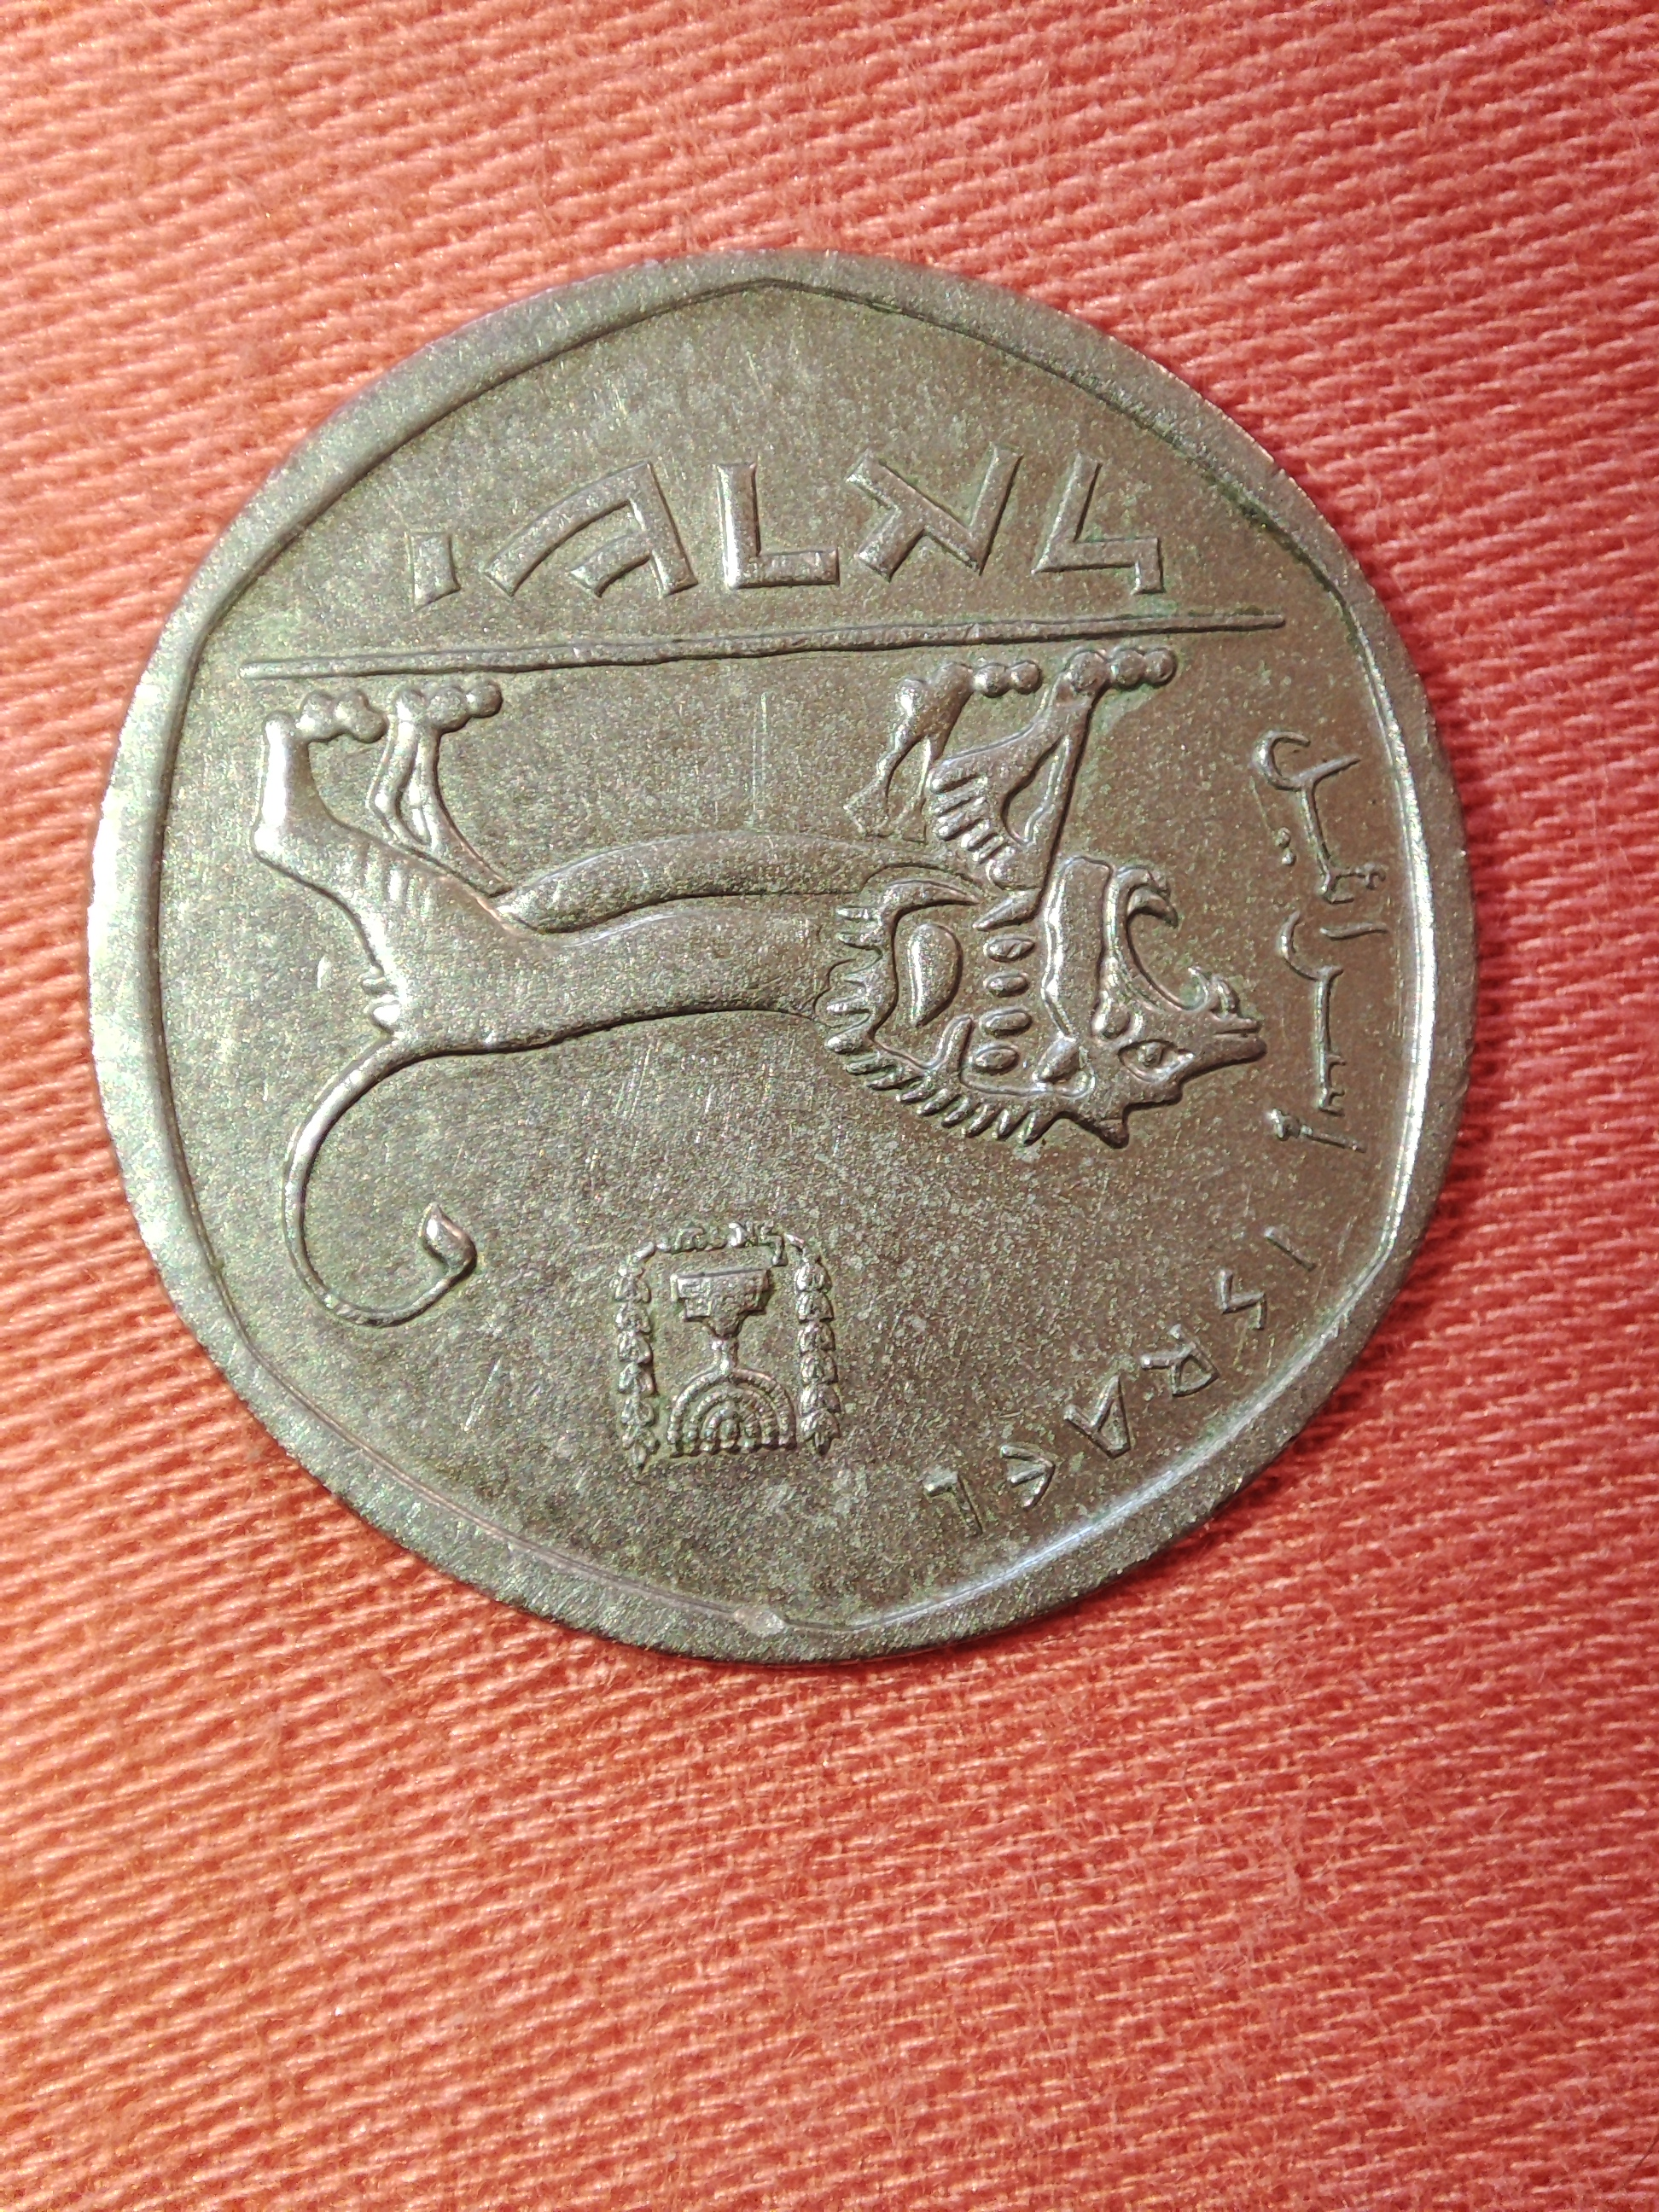1/2 old sheqel: (80, 232, 1493, 1689)
